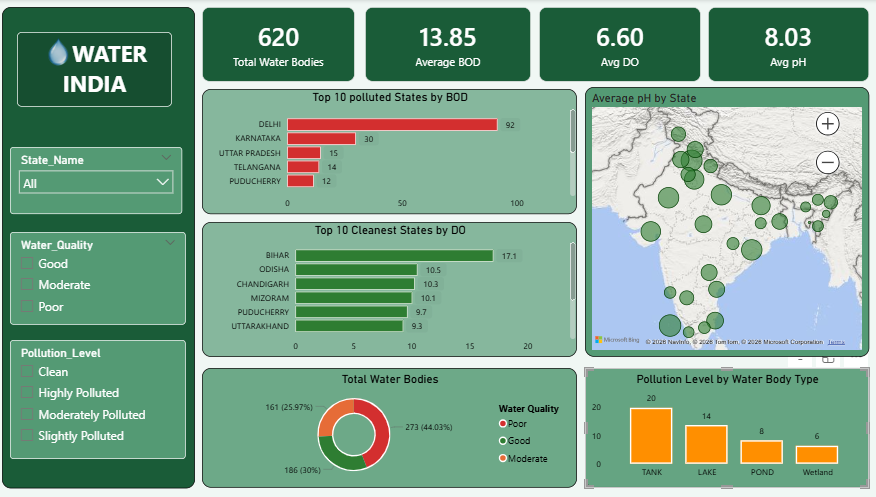

Layout of this report page (visuals, bound fields, positions):
{"tool":"powerbi","page":{"name":"Page 1","canvas":[1280,720],"ordinal":0},"visuals":[{"type":"shape","box":[10.9,10.9,279,696.1],"z":0},{"type":"image","box":[50.6,47.7,85.3,60.7],"z":1000},{"type":"textbox","box":[33.3,47.7,224.1,108.4],"z":2000},{"type":"cardVisual","fields":{"Data":["All Measures.Total Water Bodies"]},"box":[300.7,11.6,221.2,108.4],"z":3000},{"type":"cardVisual","fields":{"Data":["All Measures.Avg DO"]},"box":[788,11.6,234.2,108.4],"z":4000},{"type":"cardVisual","fields":{"Data":["All Measures.Average BOD"]},"box":[536.4,11.6,240,108.4],"z":5000},{"type":"slicer","fields":{"Values":["water_quality_clean.State_Name"]},"box":[23.1,214,248.7,96.9],"z":6000},{"type":"slicer","fields":{"Values":["water_quality_clean.Water_Quality"]},"box":[23.1,336.9,254.5,134.5],"z":7000},{"type":"slicer","fields":{"Values":["water_quality_clean.Pollution_Level"]},"box":[23.1,493,254.5,172],"z":8000},{"type":"cardVisual","fields":{"Data":["All Measures.Avg pH"]},"box":[1032.3,11.6,232.8,108.4],"z":9000},{"type":"clusteredBarChart","title":"Top 10 polluted States by BOD","fields":{"Category":["water_quality_clean.State_Name"],"Y":["All Measures.Average BOD"]},"box":[300.7,130.1,542.2,180.7],"z":10000},{"type":"donutChart","title":"Total Water Bodies","fields":{"Category":["water_quality_clean.Water_Quality"],"Y":["All Measures.Total Water Bodies"]},"box":[300.7,533.5,542.2,173.5],"z":11000},{"type":"clusteredBarChart","title":"Top 10 Cleanest States by DO","fields":{"Category":["water_quality_clean.State_Name"],"Y":["All Measures.Avg DO"]},"box":[300.7,322.4,542.2,195.2],"z":12000},{"type":"clusteredColumnChart","title":"Pollution Level by Water Body Type","fields":{"Category":["water_quality_clean.Water_Body_Type"],"Y":["All Measures.Average BOD"]},"box":[854.5,533.5,410.6,173.5],"z":13000},{"type":"map","title":"Average  pH by State","fields":{"Category":["water_quality_clean.State_Name"],"Size":["All Measures.Avg pH"]},"box":[854.5,127.2,410.6,390.4],"z":14000}]}

Visuals, with their boxes in screenshot pixels (x1, y1, x2, y2), scaled from the page's 1280x720 canvas onto the 876x497 screenshot:
shape: bbox=[7, 8, 198, 488]
image: bbox=[35, 33, 93, 75]
textbox: bbox=[23, 33, 176, 108]
cardVisual - All Measures.Total Water Bodies: bbox=[206, 8, 357, 83]
cardVisual - All Measures.Avg DO: bbox=[539, 8, 700, 83]
cardVisual - All Measures.Average BOD: bbox=[367, 8, 531, 83]
slicer - water_quality_clean.State_Name: bbox=[16, 148, 186, 215]
slicer - water_quality_clean.Water_Quality: bbox=[16, 233, 190, 325]
slicer - water_quality_clean.Pollution_Level: bbox=[16, 340, 190, 459]
cardVisual - All Measures.Avg pH: bbox=[706, 8, 866, 83]
"Top 10 polluted States by BOD" clusteredBarChart: bbox=[206, 90, 577, 215]
"Total Water Bodies" donutChart: bbox=[206, 368, 577, 488]
"Top 10 Cleanest States by DO" clusteredBarChart: bbox=[206, 223, 577, 357]
"Pollution Level by Water Body Type" clusteredColumnChart: bbox=[585, 368, 866, 488]
"Average  pH by State" map: bbox=[585, 88, 866, 357]
